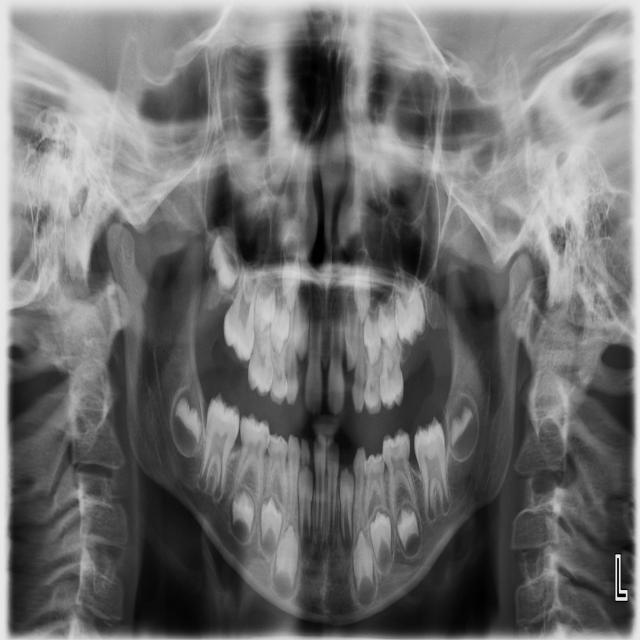mandibula: (104, 221, 535, 626)
